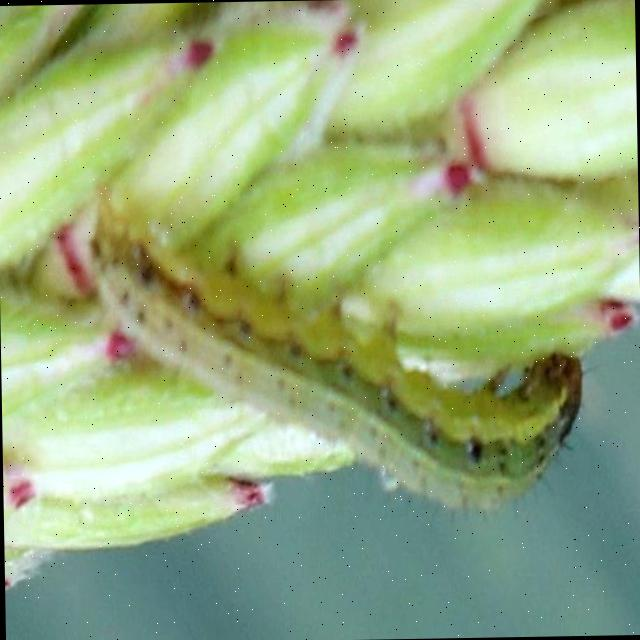worm: (1, 1, 640, 591), (87, 217, 588, 524)
